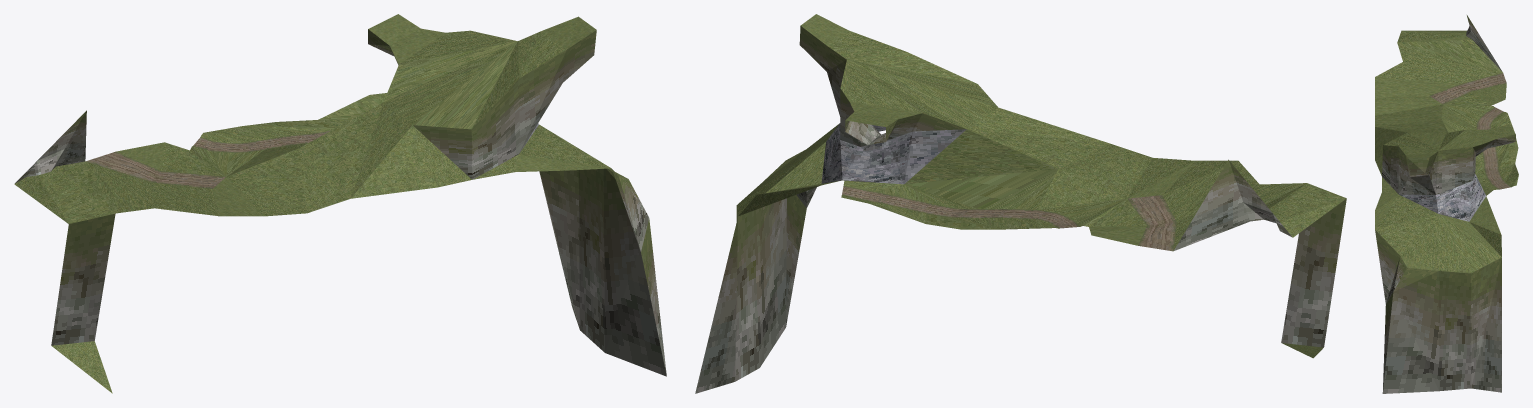
Rendered from lod_n_bit_11c.obj.
3 renders of one model, left to right at view 1: azimuth 30°, elevation 25°; view 2: azimuth 150°, elevation 25°; view 3: azimuth 270°, elevation 25°, orthographic. The views are drawn at different scales.
Parts seen in each view (by area): view 1: lod_n_bit_11c; view 2: lod_n_bit_11c; view 3: lod_n_bit_11c.
Boxes of the visible parts, box(x1,y1,x2,y2) form: lod_n_bit_11c: box(14, 14, 666, 393); lod_n_bit_11c: box(695, 14, 1346, 393); lod_n_bit_11c: box(1375, 15, 1518, 393).
Bounding box in the file's own units: 237 × 136 × 79.2.
Materials: 5 (5 with a texture image).
